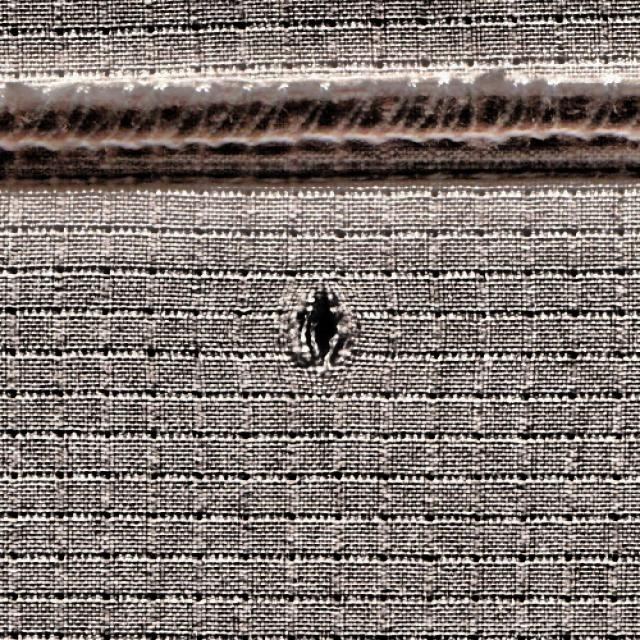Hole: (282, 279, 363, 382)
